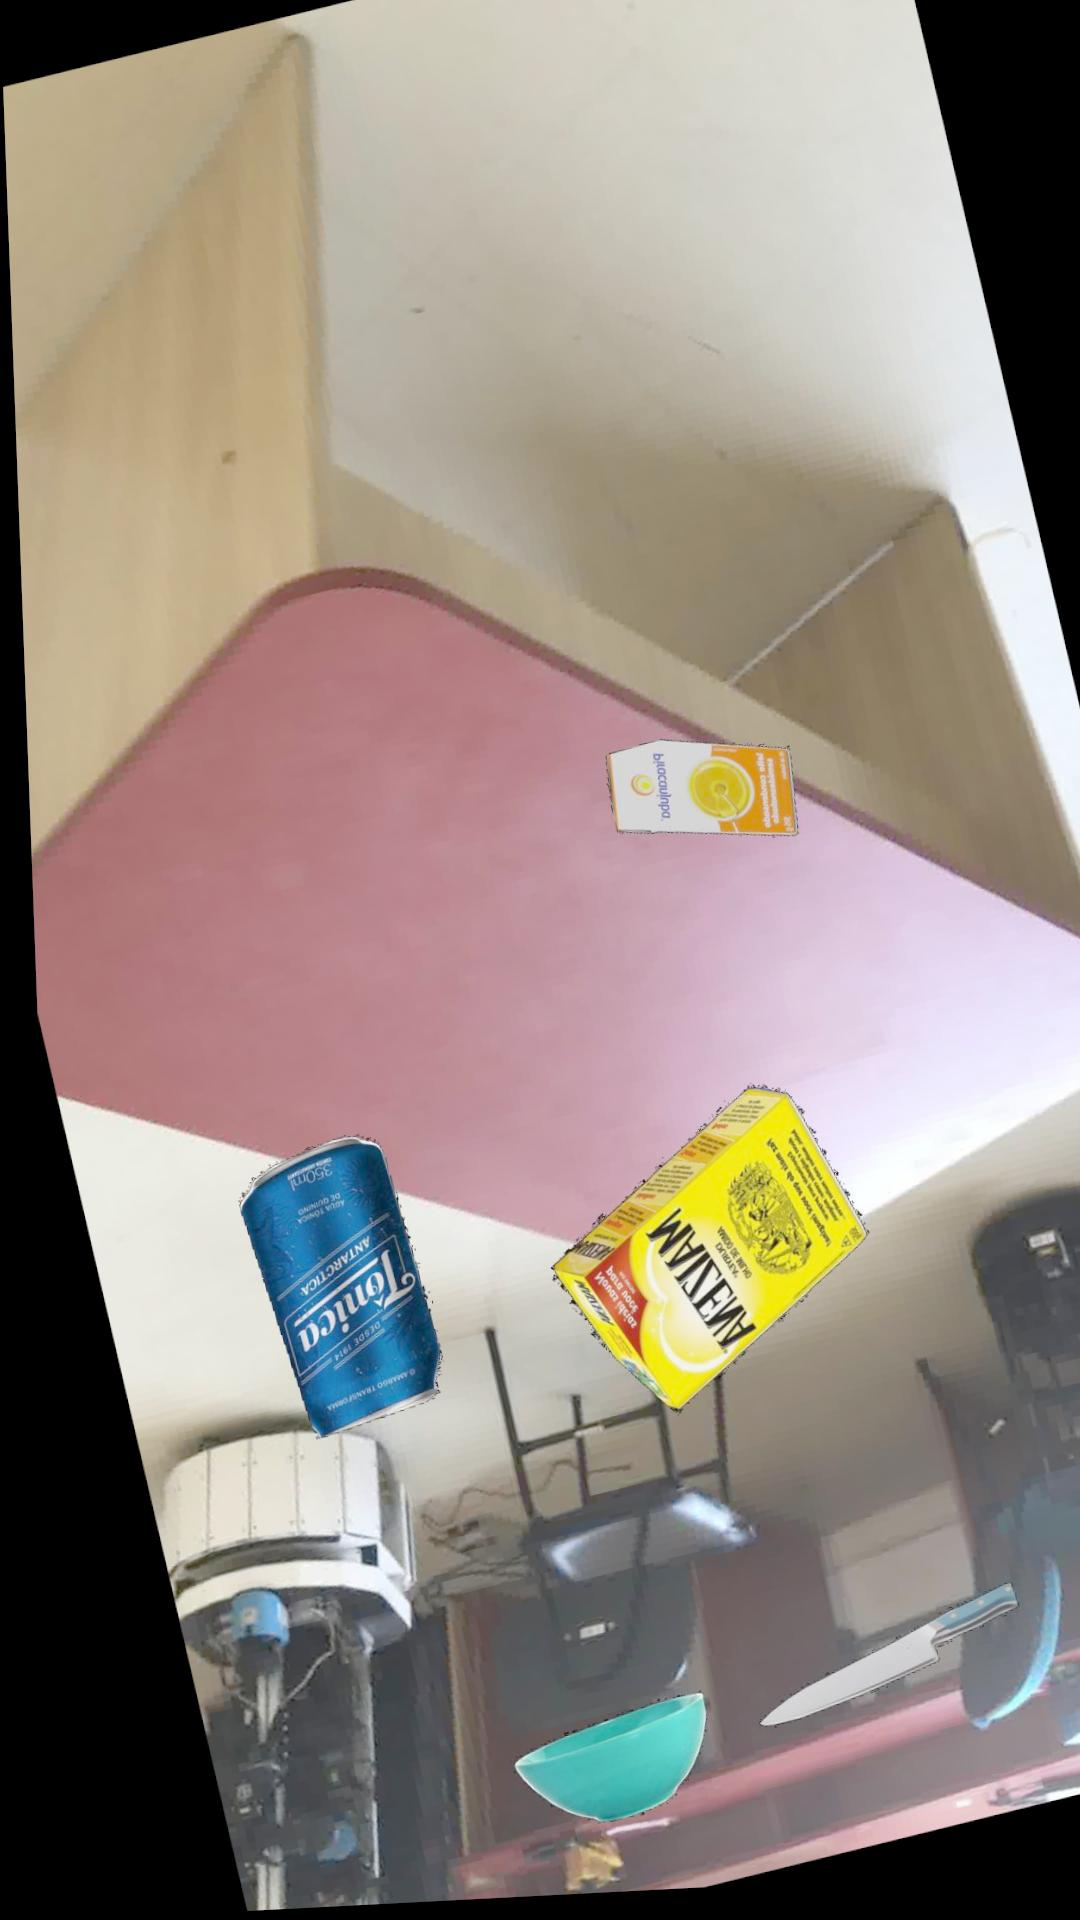bowl: (502, 1700, 695, 1829)
knife: (748, 1593, 1007, 1735)
tonic: (232, 1141, 433, 1443)
